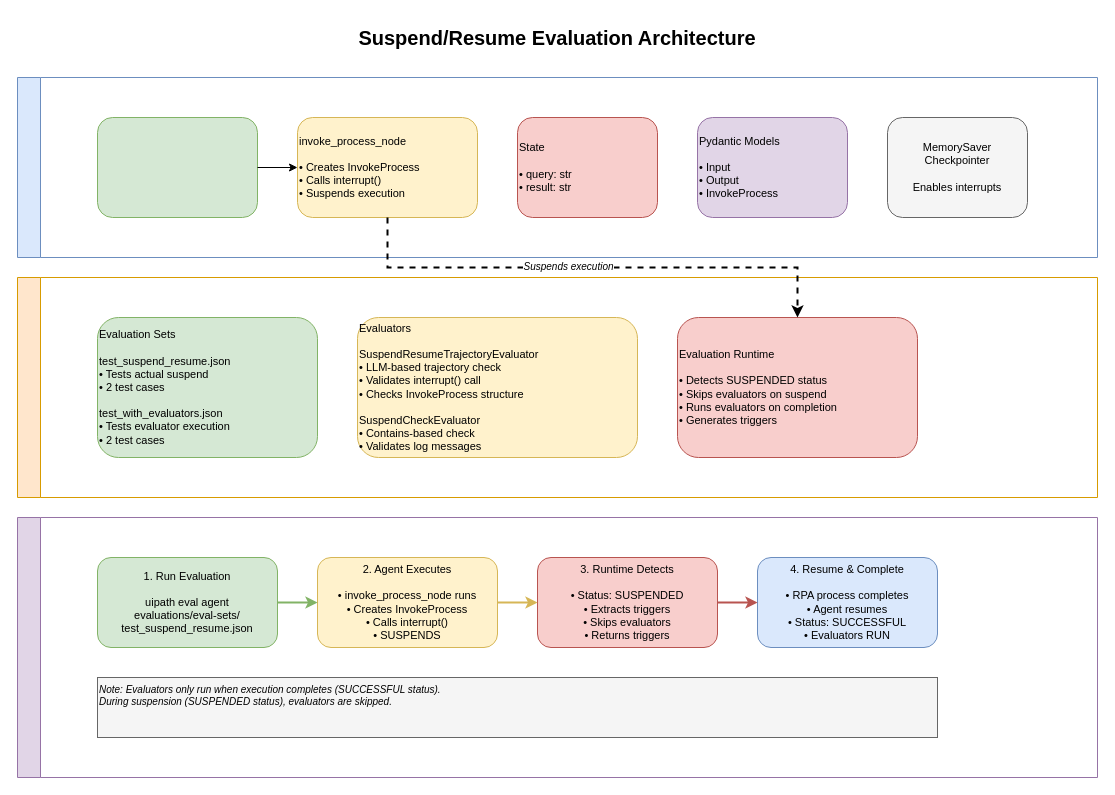
The diagram is 1115 pixels wide and 795 high, and some of its shapes have lost their labels. Each missing label, with the box of its shape:
Agent Layer: (16, 76, 1098, 258)
Evaluation Layer: (16, 276, 1098, 498)
Execution Flow: (16, 516, 1098, 778)
graph.py (LangGraph Agent): (96, 116, 258, 218)
